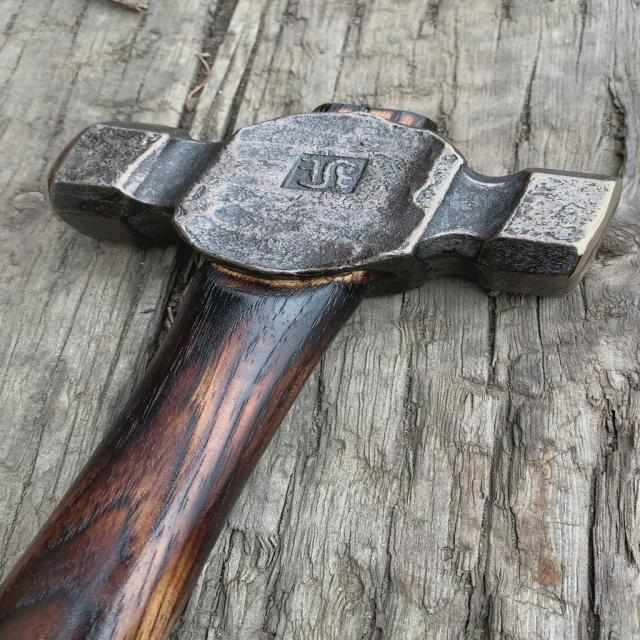hammer: (0, 89, 633, 640)
